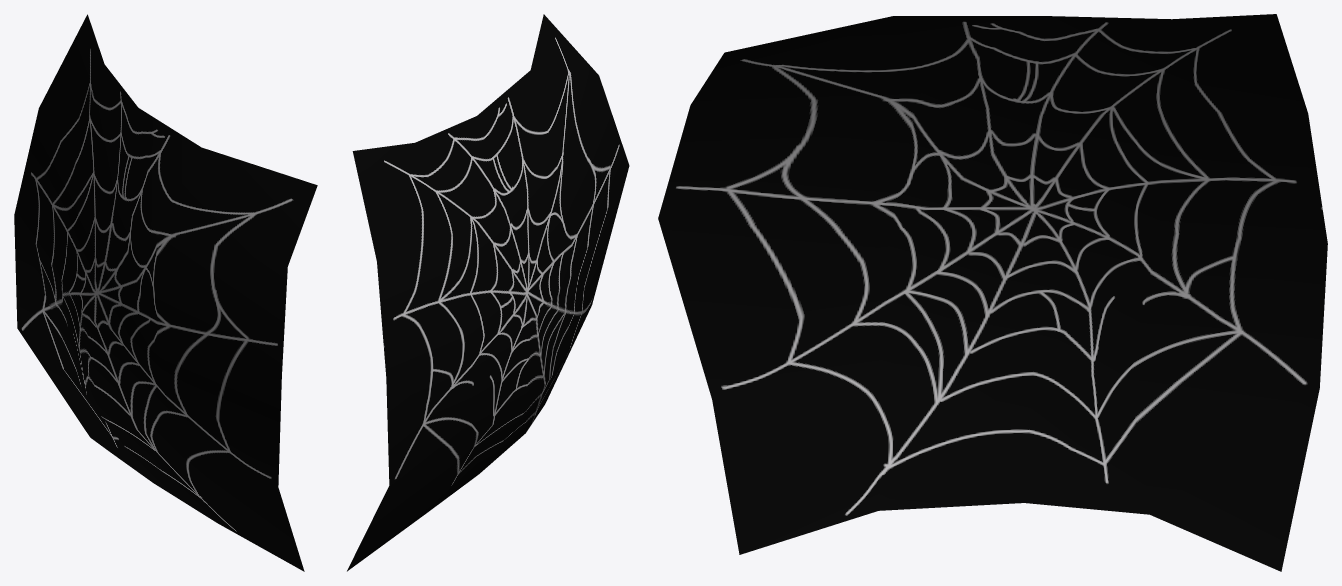
File: Web.FBX
The picture shows the model from 3 angles, left to right: view 1: azimuth 30°, elevation 25°; view 2: azimuth 150°, elevation 25°; view 3: azimuth 270°, elevation 25°; orthographic projection. The views are drawn at different scales.
Visible parts, largest first — view 1: Plane001; view 2: Plane001; view 3: Plane001.
Part boxes in pixels (x1=…): Plane001: x1=14, y1=14, x2=317, y2=571; Plane001: x1=347, y1=14, x2=629, y2=571; Plane001: x1=658, y1=14, x2=1327, y2=571.
Bounding box in the file's own units: 144 × 538 × 588.
